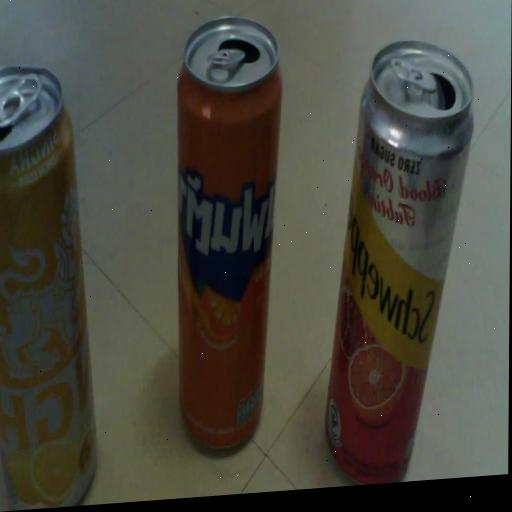canned: (315, 21, 486, 488), (158, 0, 292, 468), (0, 36, 119, 512)
